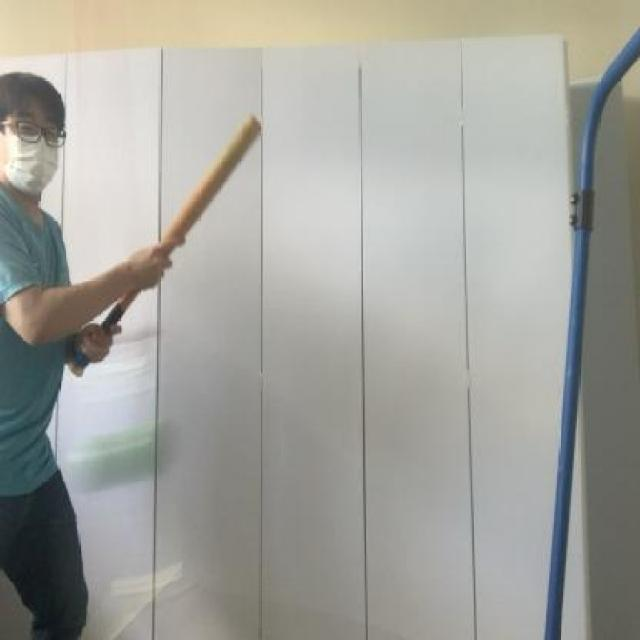baseball: (55, 407, 173, 498)
